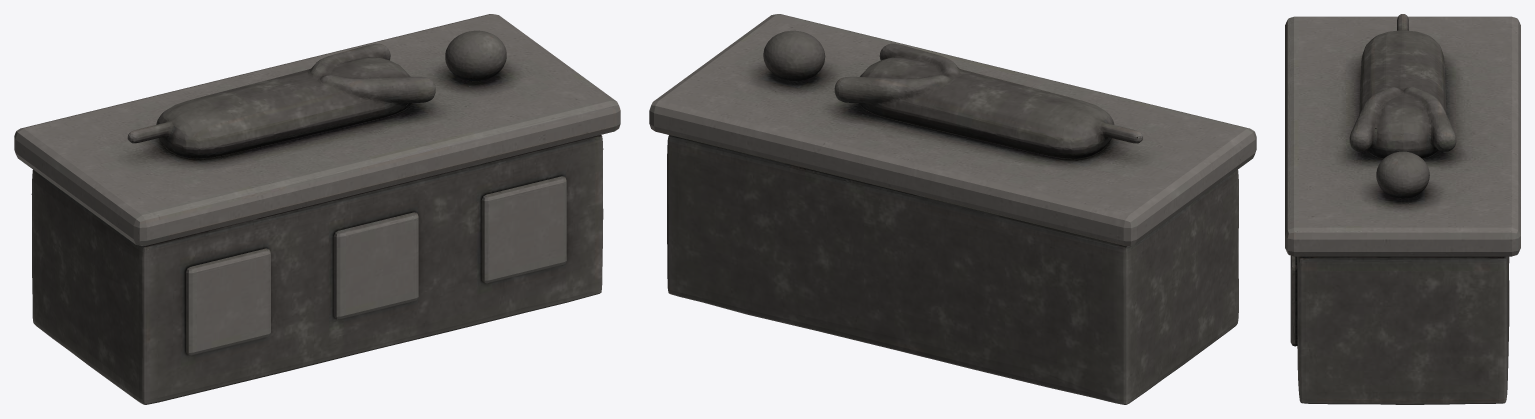
Rendered from dg_sarcofago.glb.
3 views of the same model, side by side, from view 1: azimuth 30°, elevation 25°; view 2: azimuth 150°, elevation 25°; view 3: azimuth 270°, elevation 25° (orthographic). The views are drawn at different scales.
Parts seen in each view (by area): view 1: dg_sarcofago_tronco; view 2: dg_sarcofago_tronco; view 3: dg_sarcofago_tronco.
Boxes of the visible parts, x1,y1,x2,y2 form: dg_sarcofago_tronco: [14, 14, 620, 404]; dg_sarcofago_tronco: [649, 14, 1256, 404]; dg_sarcofago_tronco: [1285, 14, 1520, 404].
Bounding box in the file's own units: 2.3 × 1.09 × 1.05.
1 material, 1 textured.
